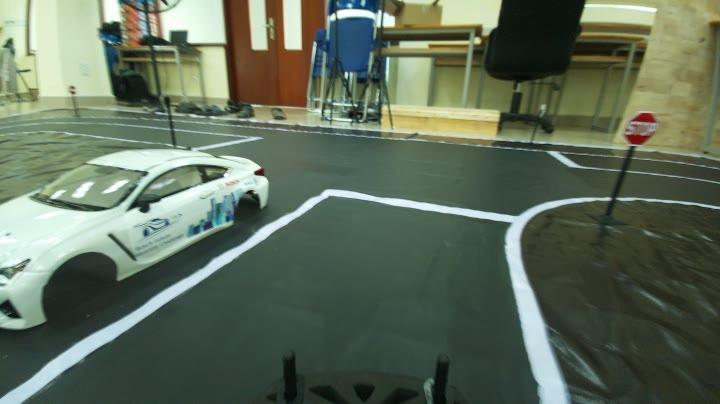car: (4, 148, 263, 323)
stop: (622, 106, 658, 158)
